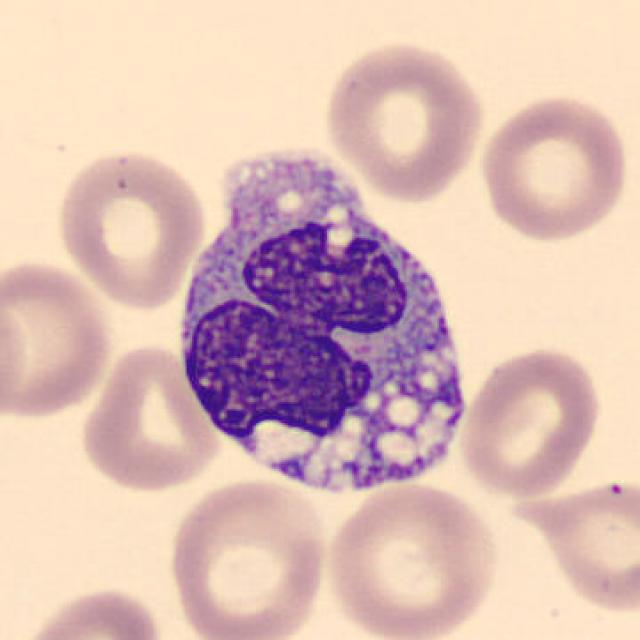Monocyte: (169, 134, 480, 517)
RBC: (321, 479, 503, 640), (318, 35, 489, 205), (164, 474, 332, 640), (52, 145, 210, 312), (473, 88, 633, 245), (455, 342, 605, 499), (76, 338, 222, 496), (0, 256, 116, 423), (526, 474, 640, 617), (11, 582, 169, 640)
